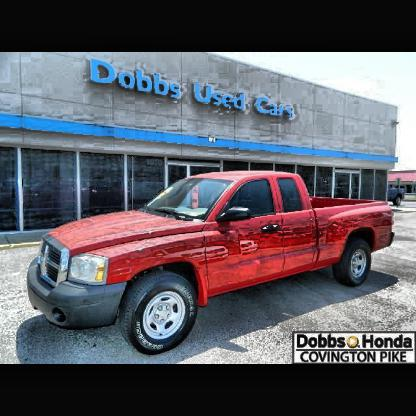Dodge Dakota Club Cab 2007: (28, 170, 395, 354)
